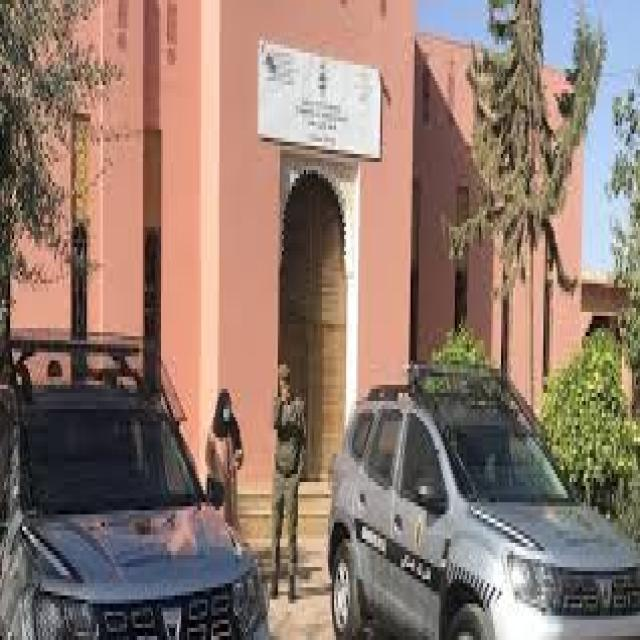gendarme car: (322, 354, 640, 640)
